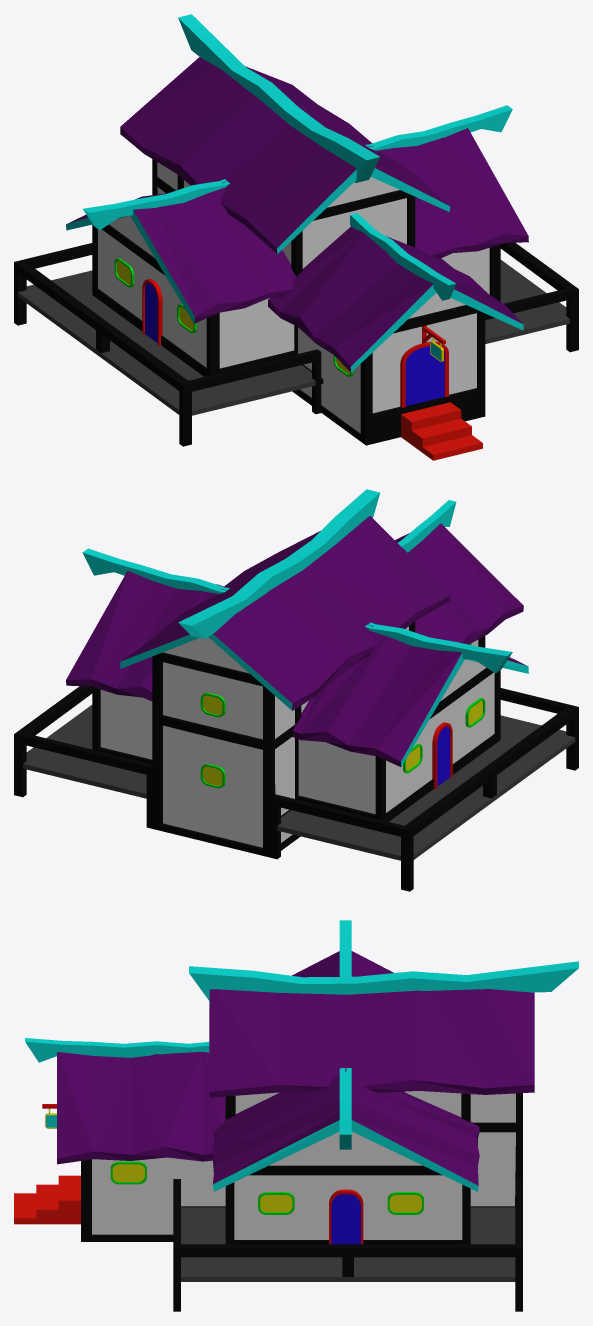
The model's file is Tavern.fbx.
The picture shows the model from 3 angles, top to bottom: view 1: azimuth 30°, elevation 25°; view 2: azimuth 150°, elevation 25°; view 3: azimuth 270°, elevation 25°; orthographic projection. The views are drawn at different scales.
Visible parts, largest first — view 1: Box004; view 2: Box004; view 3: Box004.
Boxes of the visible parts, <box> form: Box004: <box>14,14,578,460</box>; Box004: <box>14,489,578,891</box>; Box004: <box>14,920,578,1311</box>.
Bounding box in the file's own units: 1335 × 718 × 1487.
